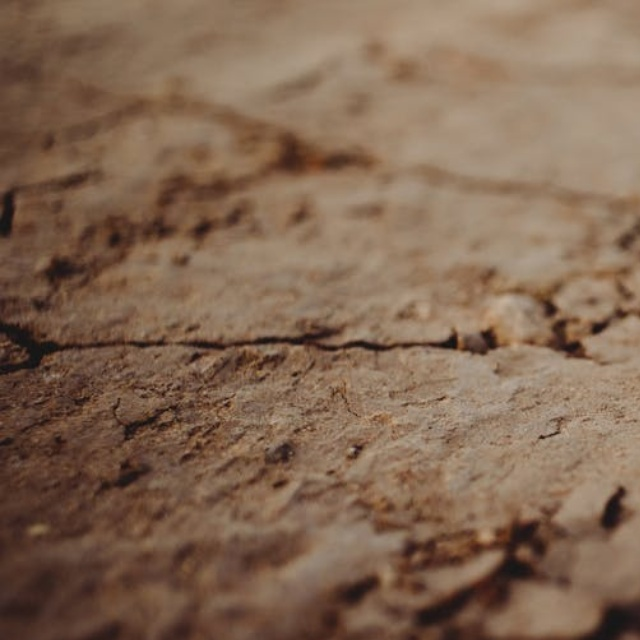细微裂纹: (0, 281, 640, 379)
